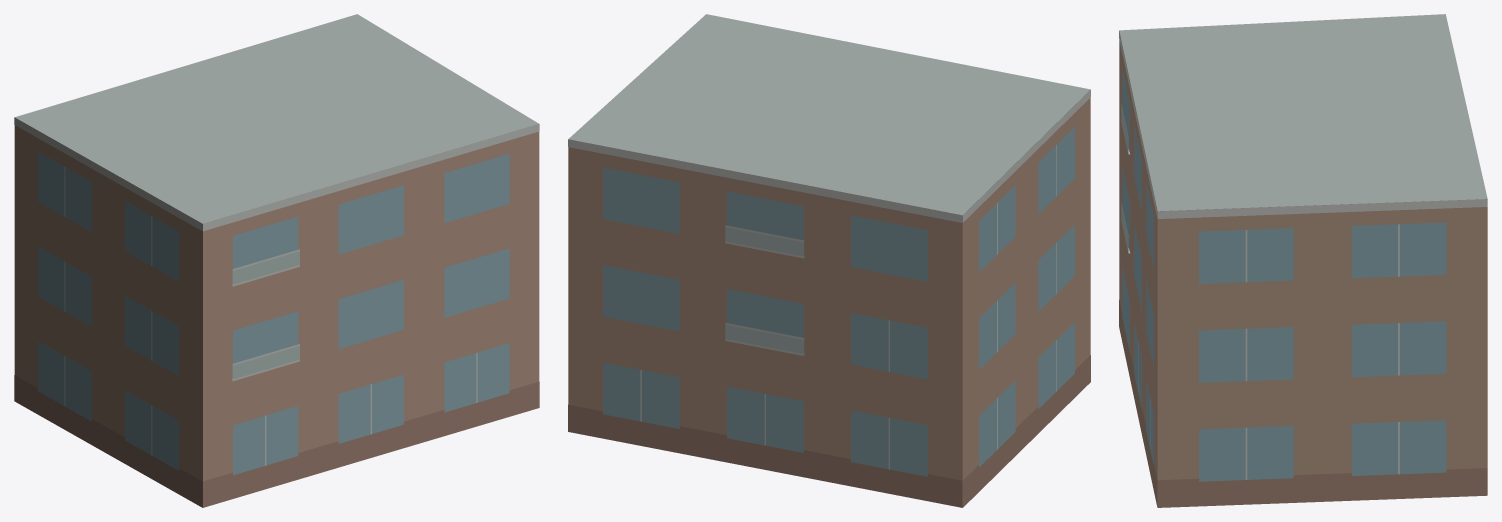
File: survey-upis-32625400.glb
3 renders of one model, left to right at view 1: azimuth 30°, elevation 25°; view 2: azimuth 150°, elevation 25°; view 3: azimuth 270°, elevation 25°, orthographic. The views are drawn at different scales.
Parts seen in each view (by area): view 1: survey-upis-32625400.tmp; view 2: survey-upis-32625400.tmp; view 3: survey-upis-32625400.tmp.
Boxes of the visible parts, x1=… form: survey-upis-32625400.tmp: x1=14, y1=14, x2=539, y2=507; survey-upis-32625400.tmp: x1=568, y1=14, x2=1090, y2=507; survey-upis-32625400.tmp: x1=1119, y1=14, x2=1487, y2=507.
Bounding box in the file's own units: 13.05 × 9.15 × 10.31.
